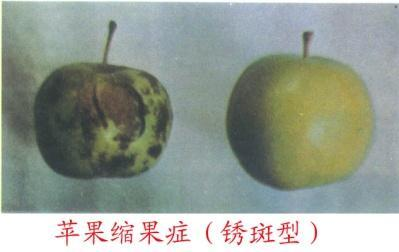apple: (226, 52, 376, 191)
